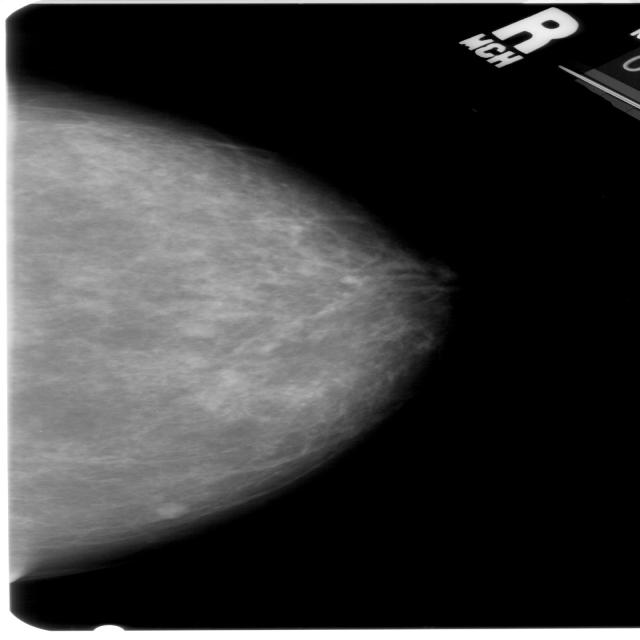normal: (0, 63, 432, 575)
